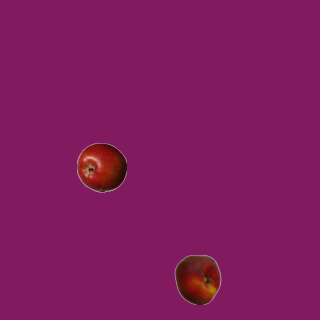Apple Braeburn: (76, 142, 126, 192)
Nectarine Flat: (172, 254, 222, 304)
